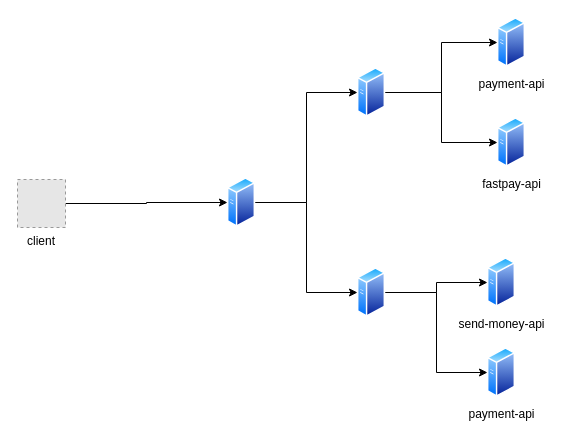
This 562x438 diagram has some shape labels left out. Grey dashed boxes stand in for pictures. The centre of each missing label's shape, as x and y in pixels:
moneygram-gateway: (x=371, y=292)
payment-gateway: (x=371, y=92)
reverse-proxy: (x=241, y=202)
